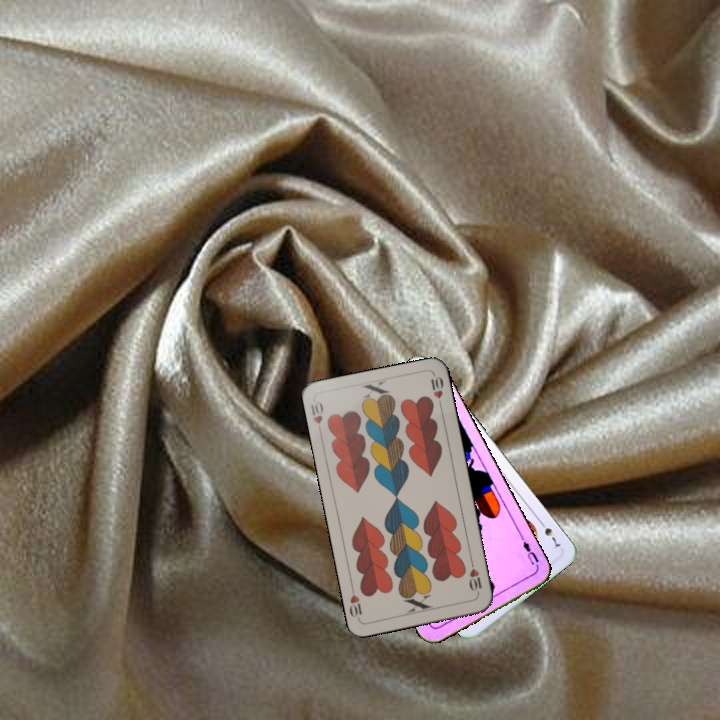EU: (517, 533, 542, 571)
H10: (465, 557, 484, 597), (307, 397, 326, 436)
S7: (535, 516, 563, 551)
